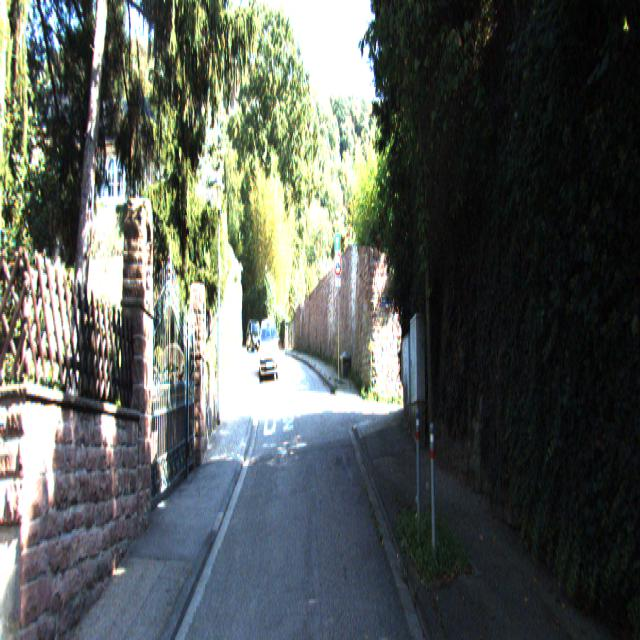Car: (259, 316, 278, 382), (247, 318, 264, 359)
